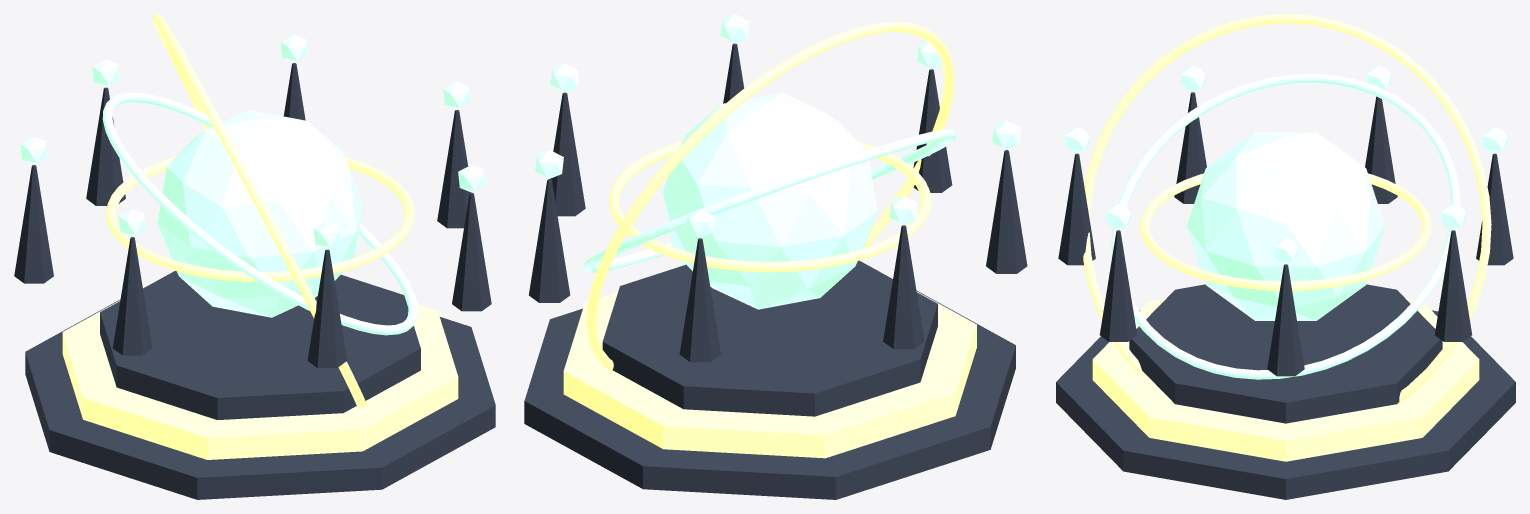
The model's file is gpu-blender-v47.glb.
3 renders of one model, left to right at view 1: azimuth 30°, elevation 25°; view 2: azimuth 150°, elevation 25°; view 3: azimuth 270°, elevation 25°, orthographic. The views are drawn at different scales.
Visible parts, largest first — view 1: Cylinder.002, SovereignCore_likeness-desk, Cylinder, Cylinder.001, Torus.001, Torus, Torus.002, Cone.006, Cone.003, Cone.004, Cone.005, Cone (+9 smaller); view 2: Cylinder.002, SovereignCore_likeness-desk, Cylinder, Cylinder.001, Torus.002, Torus.001, Torus, Cone.003, Cone.002, Cone.004, Cone.001, Cone (+8 smaller); view 3: SovereignCore_likeness-desk, Cylinder.002, Cylinder, Cylinder.001, Torus.002, Torus.001, Torus, Cone, Cone.001, Cone.006, Cone.005, Cone.002 (+8 smaller).
Boxes of the visible parts, box(x1,y1,x2,y2) form: Cylinder.002: box(100, 271, 420, 419); SovereignCore_likeness-desk: box(157, 110, 363, 317); Cylinder: box(25, 299, 495, 499); Cylinder.001: box(62, 279, 458, 459); Torus.001: box(102, 92, 418, 335); Torus: box(106, 156, 414, 281); Torus.002: box(153, 14, 366, 407); Cone.006: box(452, 193, 491, 311); Cone.003: box(14, 165, 53, 283); Cone.004: box(112, 237, 152, 355); Cone.005: box(307, 249, 347, 367); Cone: box(437, 110, 471, 228); Cylinder.002: box(602, 260, 937, 416); SovereignCore_likeness-desk: box(663, 92, 877, 309); Cylinder: box(524, 290, 1015, 499); Cylinder.001: box(563, 269, 976, 458); Torus.002: box(586, 21, 954, 371); Torus.001: box(584, 129, 956, 272); Torus: box(609, 141, 931, 272); Cone.003: box(883, 225, 924, 349); Cone.002: box(679, 238, 720, 362); Cone.004: box(986, 150, 1027, 273); Cone.001: box(529, 179, 570, 302); Cone: box(549, 92, 585, 216); SovereignCore_likeness-desk: box(1186, 132, 1385, 320); Cylinder.002: box(1129, 284, 1442, 423); Cylinder: box(1056, 310, 1515, 499); Cylinder.001: box(1092, 298, 1479, 461); Torus.002: box(1083, 14, 1491, 403); Torus.001: box(1111, 73, 1460, 379); Torus: box(1140, 173, 1431, 290); Cone: box(1267, 264, 1304, 376); Cone.001: box(1434, 230, 1472, 341); Cone.006: box(1099, 230, 1137, 341); Cone.005: box(1058, 153, 1095, 265); Cone.002: box(1476, 153, 1513, 265).
Bounding box in the file's own units: 4.41 × 3.72 × 4.4.
